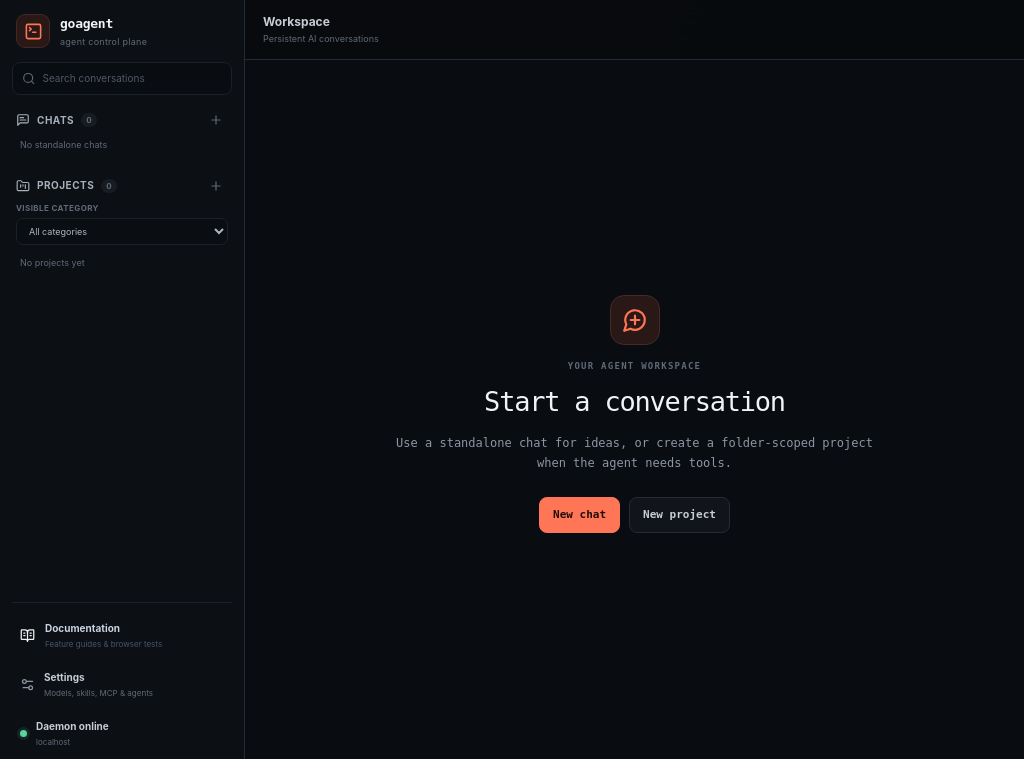
Test: App settings › validates and saves settings with an optimistic revision
The image size is (1024, 759).
Expected: the heading "Start a conversation" is shown, x1=484 y1=386 x2=785 y2=417
Click the button "Settings Models, skills, MCP & agents".
click(122, 684)  # box x1=12 y1=662 x2=232 y2=707
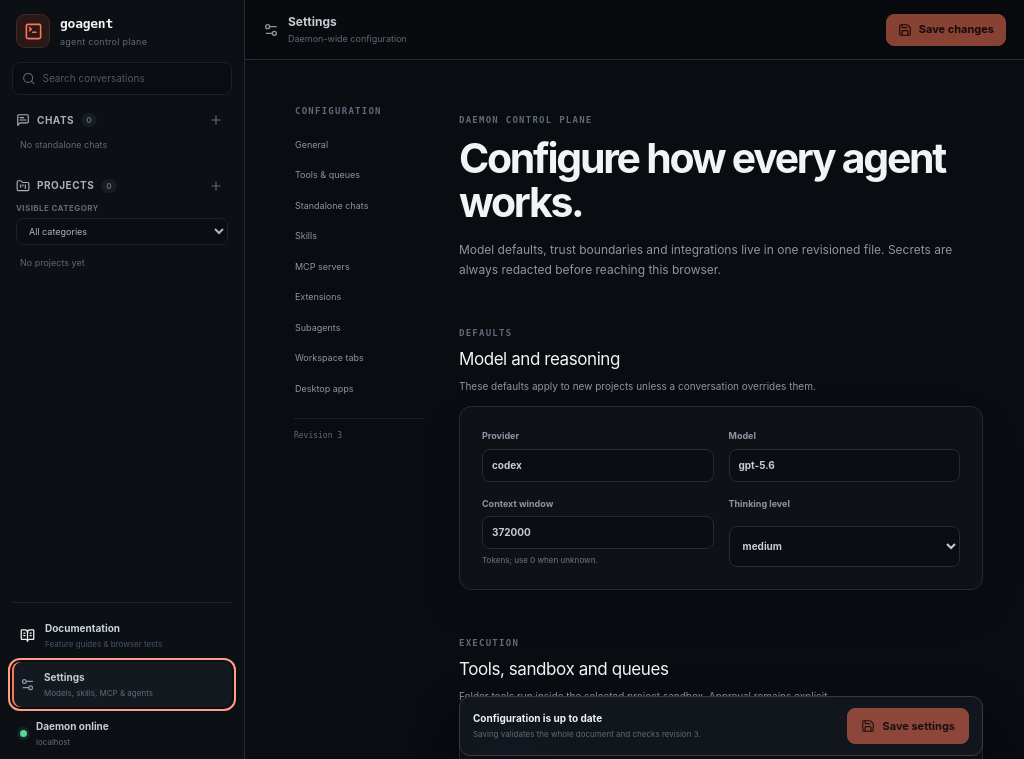
Expected: the heading "Configure how every agent works." is shown, x1=459 y1=137 x2=983 y2=225
Replace the text in the field labelled "Model" with "gpt-5.6-luna" at coordinates (844, 465), box x1=728 y1=449 x2=960 y2=482
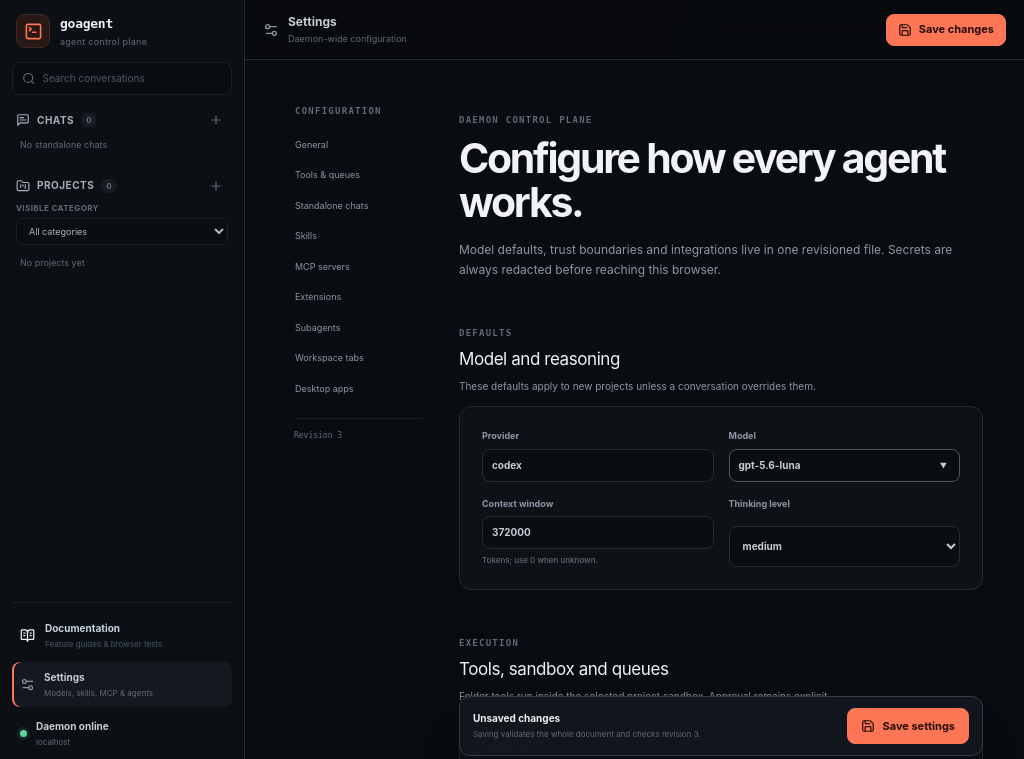
Click the button "Save changes".
click(946, 30)  # box x1=886 y1=14 x2=1006 y2=46
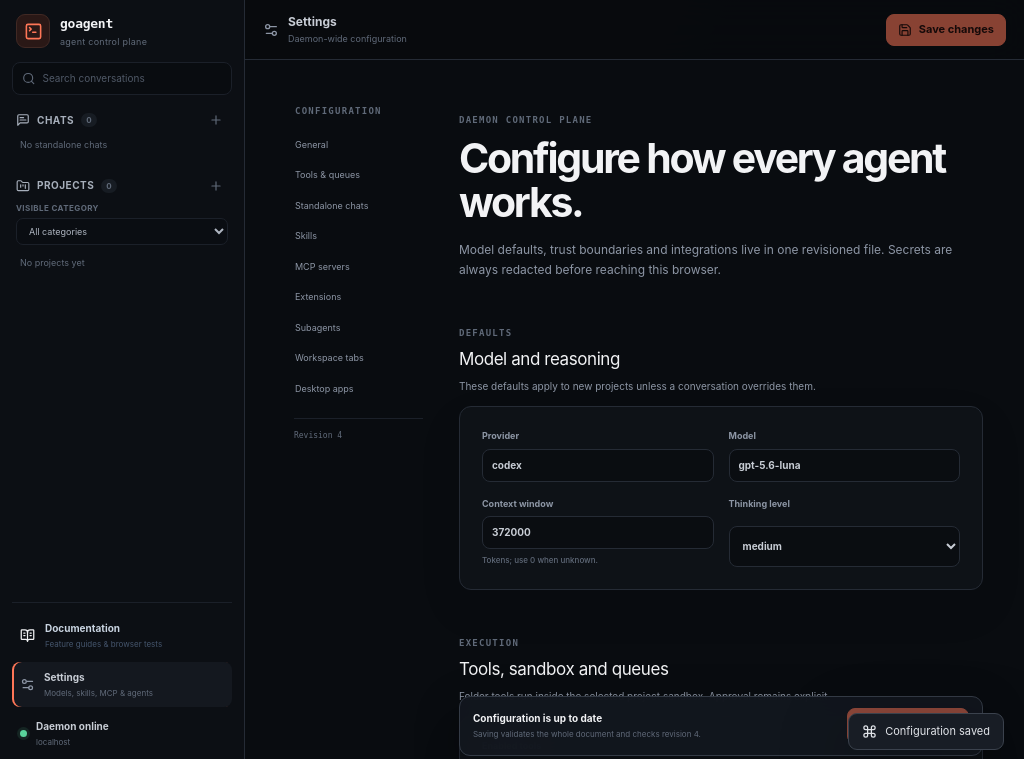
Expected: the text "Configuration saved" is shown, x1=848 y1=713 x2=1004 y2=750
